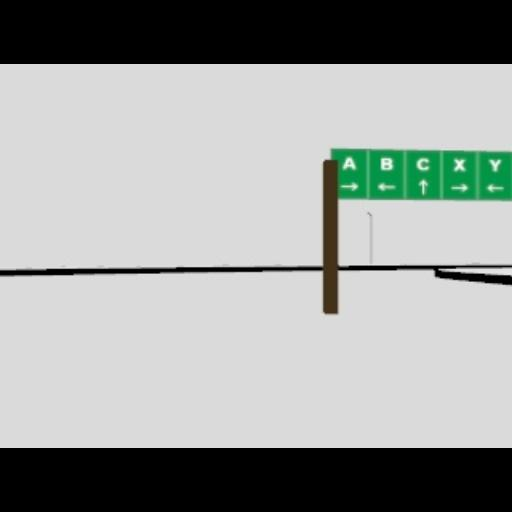A: (341, 155, 357, 169)
B: (380, 156, 392, 170)
C: (416, 157, 428, 171)
Left: (484, 184, 504, 192), (376, 182, 396, 190)
Right: (450, 182, 468, 192), (340, 181, 358, 191)
Straight: (417, 177, 427, 195)
X: (452, 158, 466, 172)
Y: (488, 158, 500, 172)
